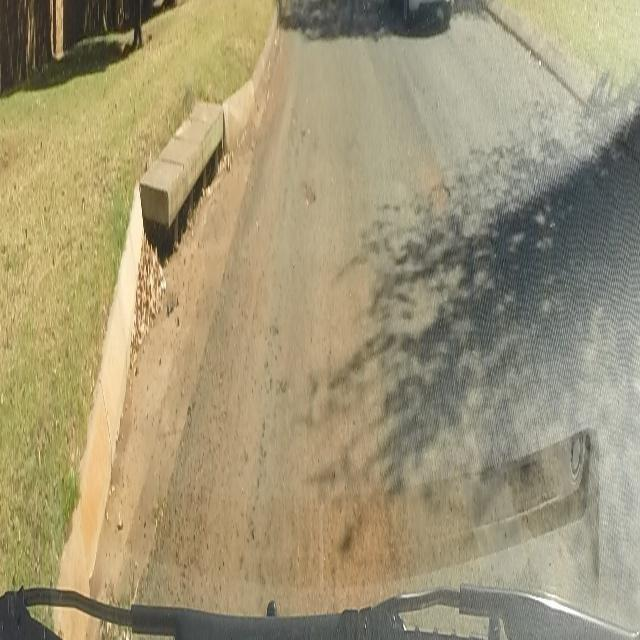pothole: (428, 175, 451, 207)
